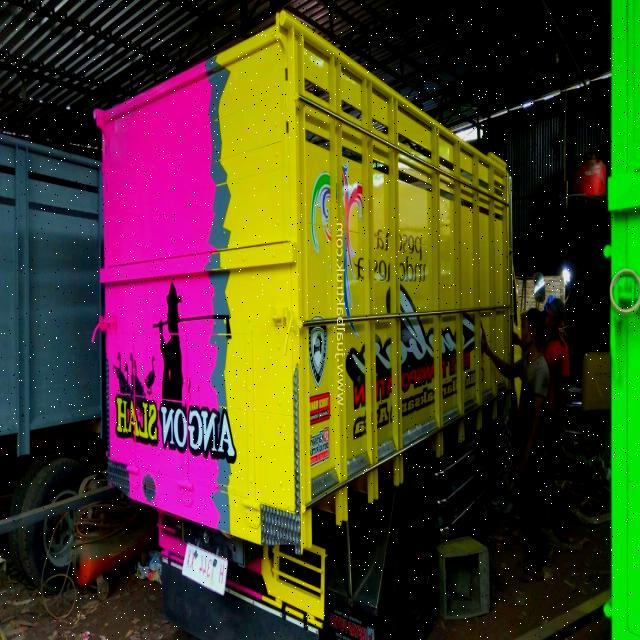truck: (93, 18, 525, 639)
